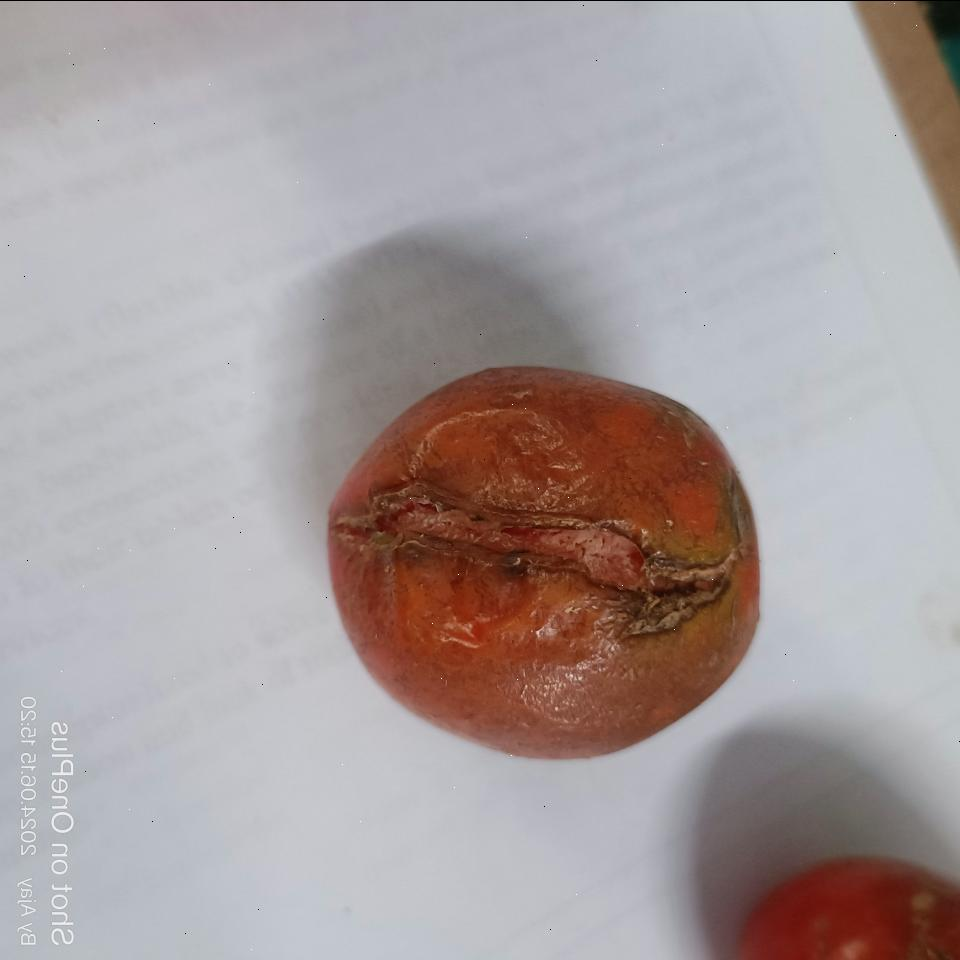Cracking: (343, 469, 761, 650)
